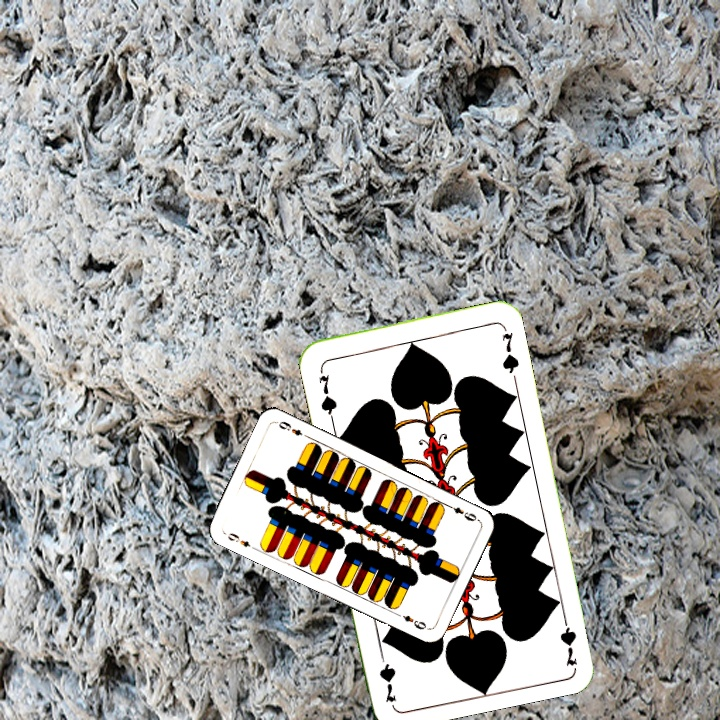E9: (443, 500, 481, 524), (223, 529, 253, 550)
G7: (556, 608, 580, 668), (314, 371, 340, 421)
